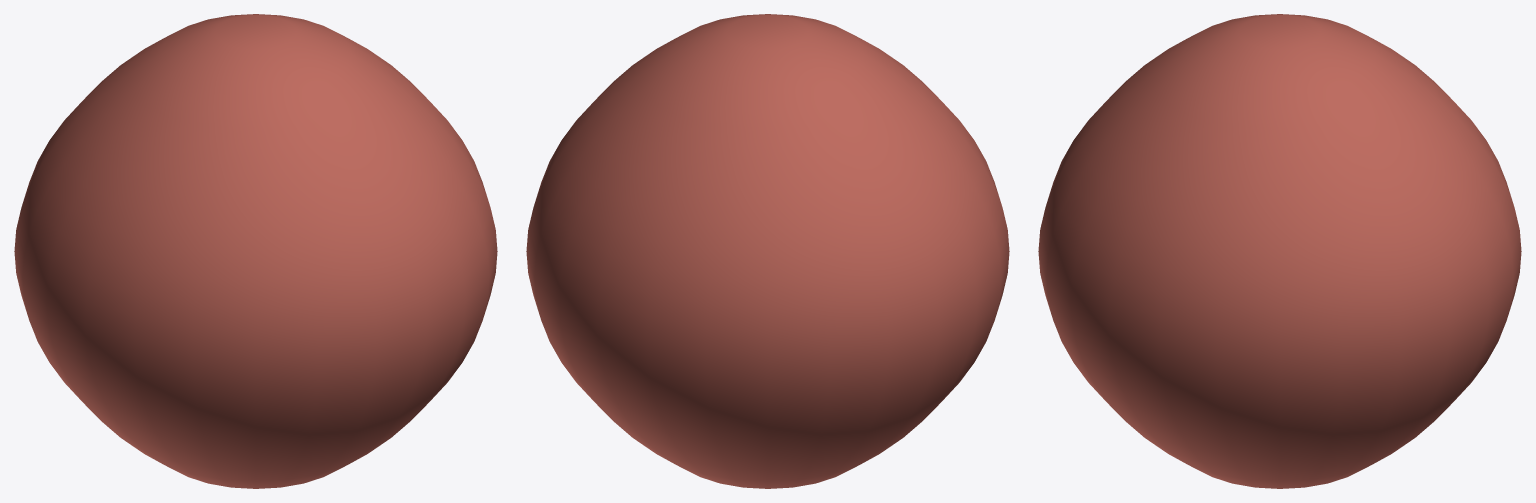
3 views of the same model, side by side, from view 1: azimuth 30°, elevation 25°; view 2: azimuth 150°, elevation 25°; view 3: azimuth 270°, elevation 25° (orthographic).
Visible parts, largest first — view 1: Schematic_muscle_unit_NOT_PHYSIOLOGICAL; view 2: Schematic_muscle_unit_NOT_PHYSIOLOGICAL; view 3: Schematic_muscle_unit_NOT_PHYSIOLOGICAL.
Boxes of the visible parts, x1=… form: Schematic_muscle_unit_NOT_PHYSIOLOGICAL: x1=14, y1=14, x2=497, y2=488; Schematic_muscle_unit_NOT_PHYSIOLOGICAL: x1=526, y1=14, x2=1009, y2=488; Schematic_muscle_unit_NOT_PHYSIOLOGICAL: x1=1038, y1=14, x2=1521, y2=488.
Bounding box in the file's own units: 1 × 1 × 1.
